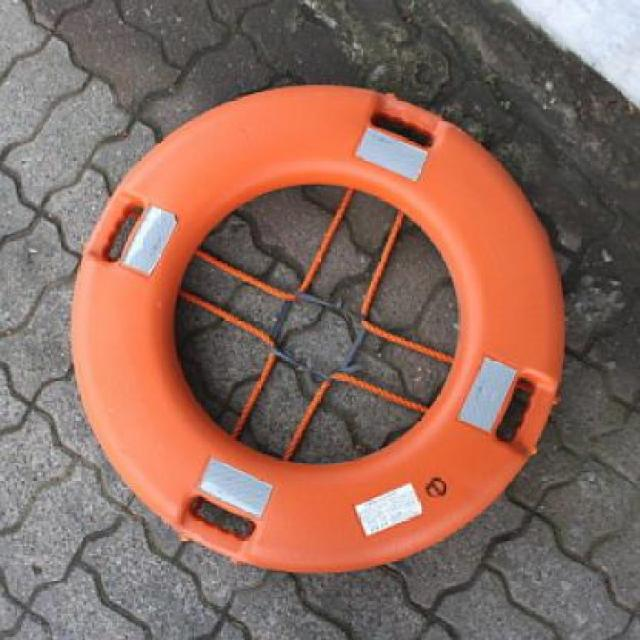a: (50, 79, 577, 577)
